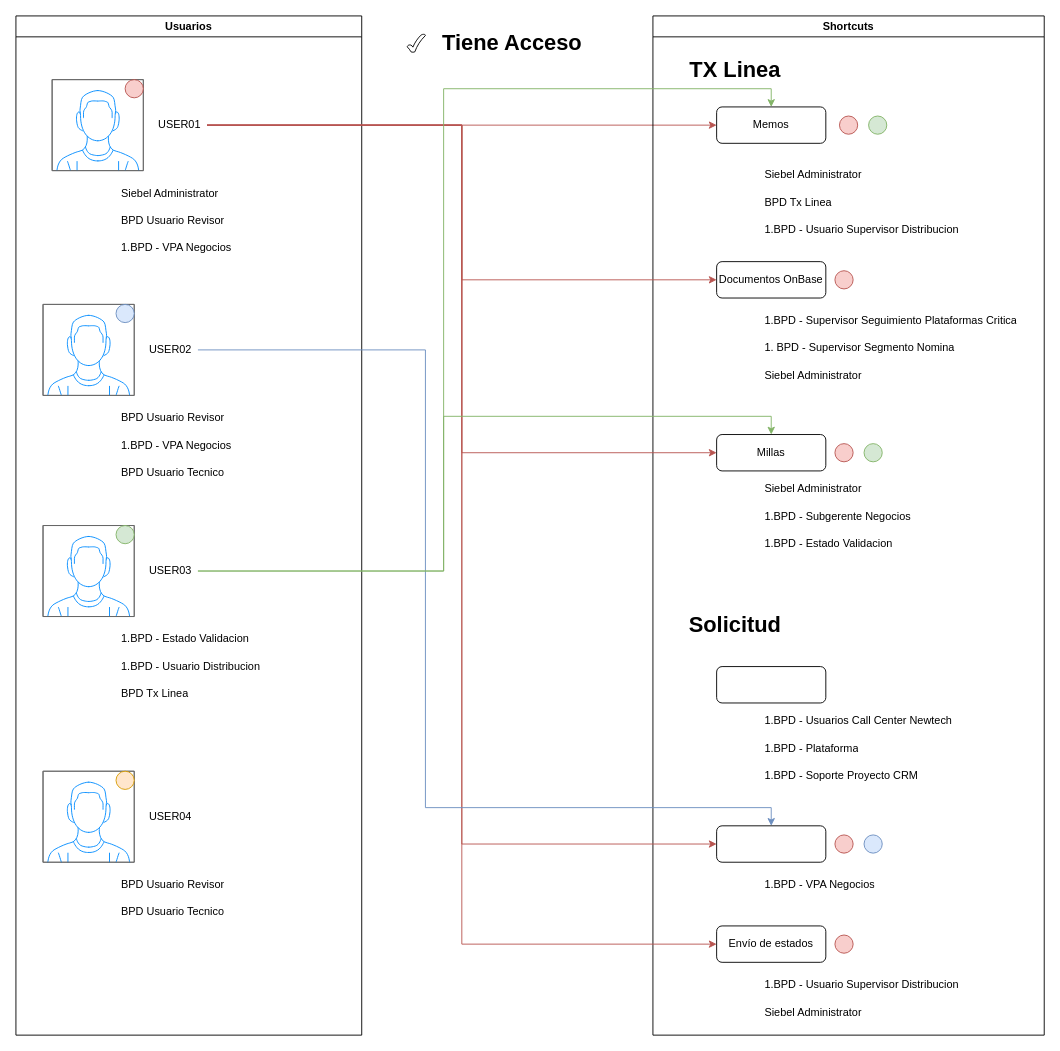
Some shapes in this 1060 by 1051 pixel diagram are drawn without their labels. Each missing label, with the centre of its shape:
Cambio Datos -Empleador: point 771,684
Correcion -Nombre/Ced/Pasaport: point 771,843
